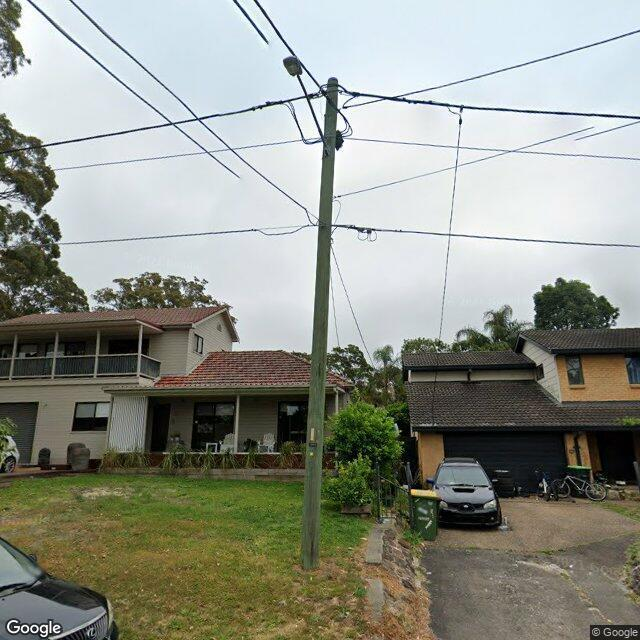streetlight: (283, 55, 329, 156)
timber-pole: (298, 75, 339, 570)
